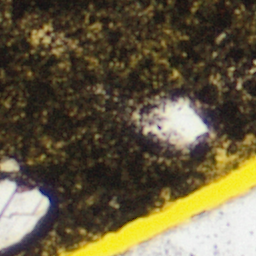cement_matrix: (0, 0, 255, 255), (137, 97, 211, 150), (34, 31, 46, 41)
cracks: (54, 147, 255, 255)
gravel_crushed_stones: (120, 187, 255, 255), (138, 98, 210, 149), (0, 183, 44, 246), (0, 160, 16, 173), (35, 32, 45, 40)
